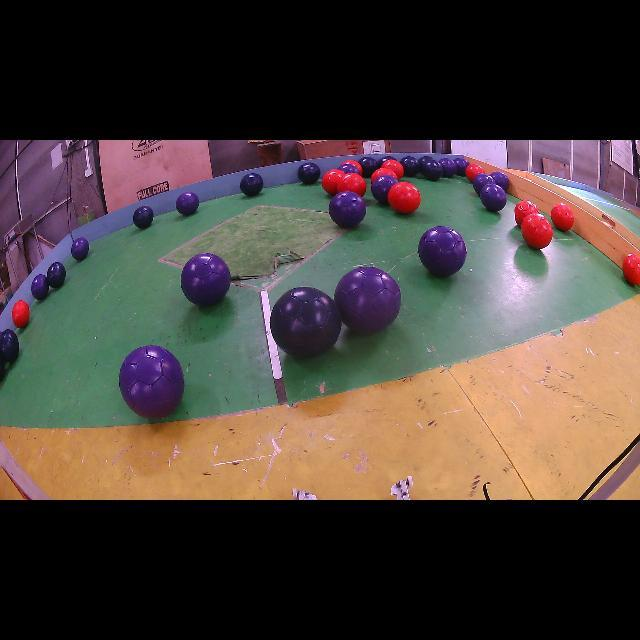B: (270, 286, 341, 358), (240, 174, 264, 196), (298, 162, 320, 184), (421, 160, 442, 181), (359, 156, 379, 178), (400, 156, 420, 178), (419, 156, 434, 169), (379, 155, 395, 166)
P: (119, 345, 185, 419), (334, 266, 401, 334), (180, 252, 230, 305), (418, 226, 468, 276), (329, 191, 366, 228), (371, 175, 399, 204), (480, 184, 506, 211), (472, 174, 495, 195), (421, 159, 442, 181), (490, 171, 510, 191), (439, 159, 456, 178), (454, 158, 469, 176)
